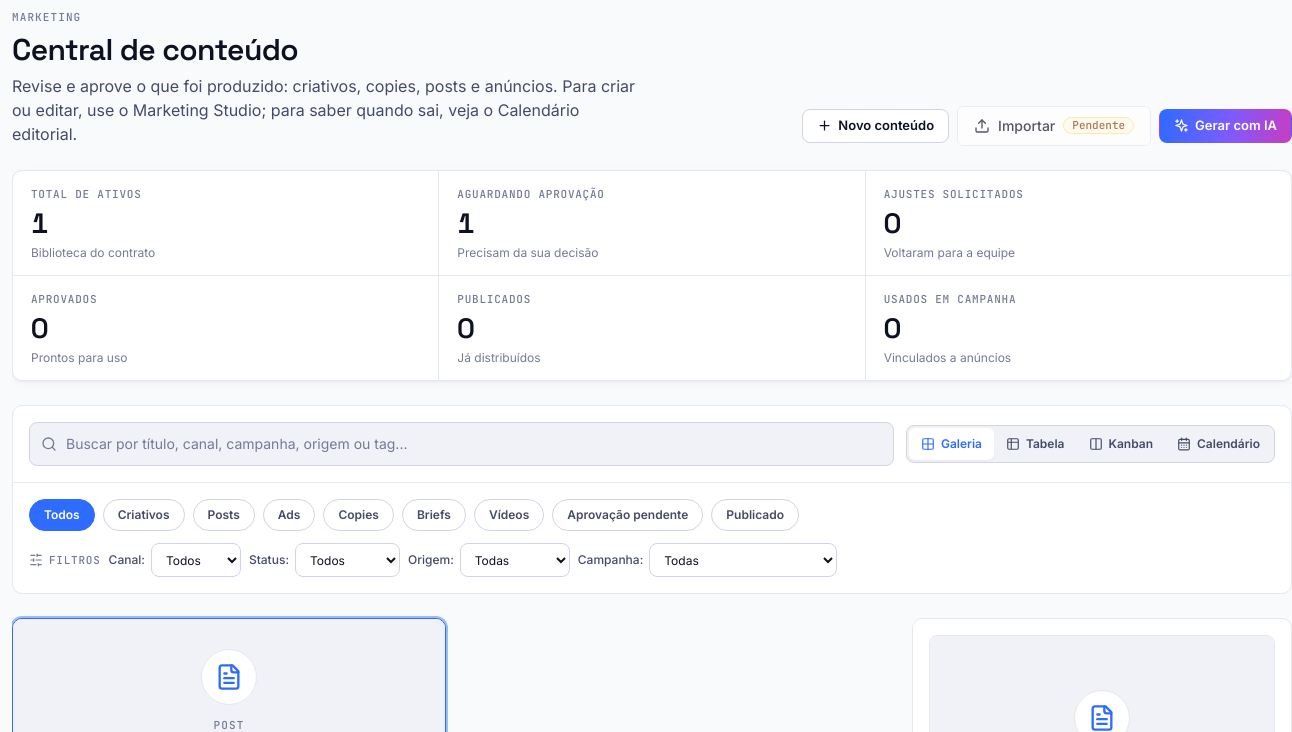
Test: PortalOrganicContentPage › Novo conteúdo é um link real e as demais ações sem função ficam marcadas como Pendente
The image size is (1292, 732).
Click the button "Importar Pendente" at (1054, 126), box [957, 106, 1151, 146]
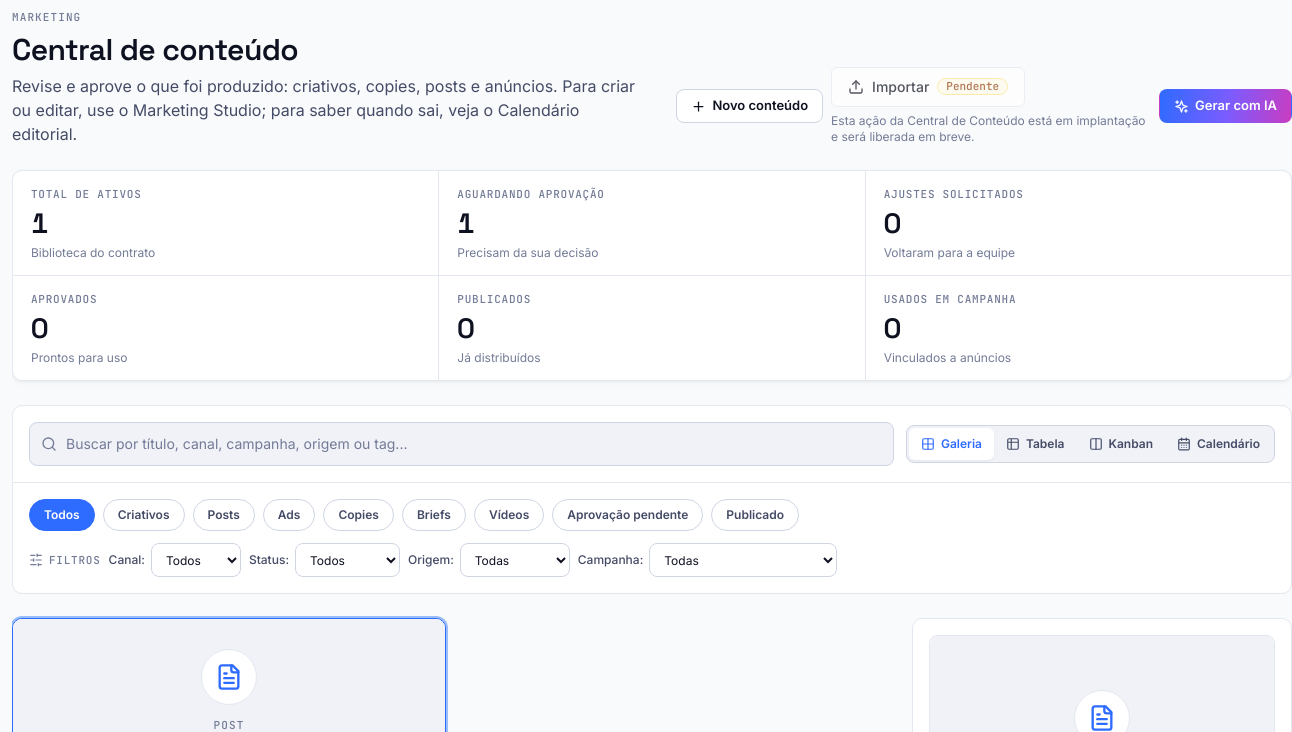
Check: the text "em implantação" is shown, box [831, 112, 1146, 144]
